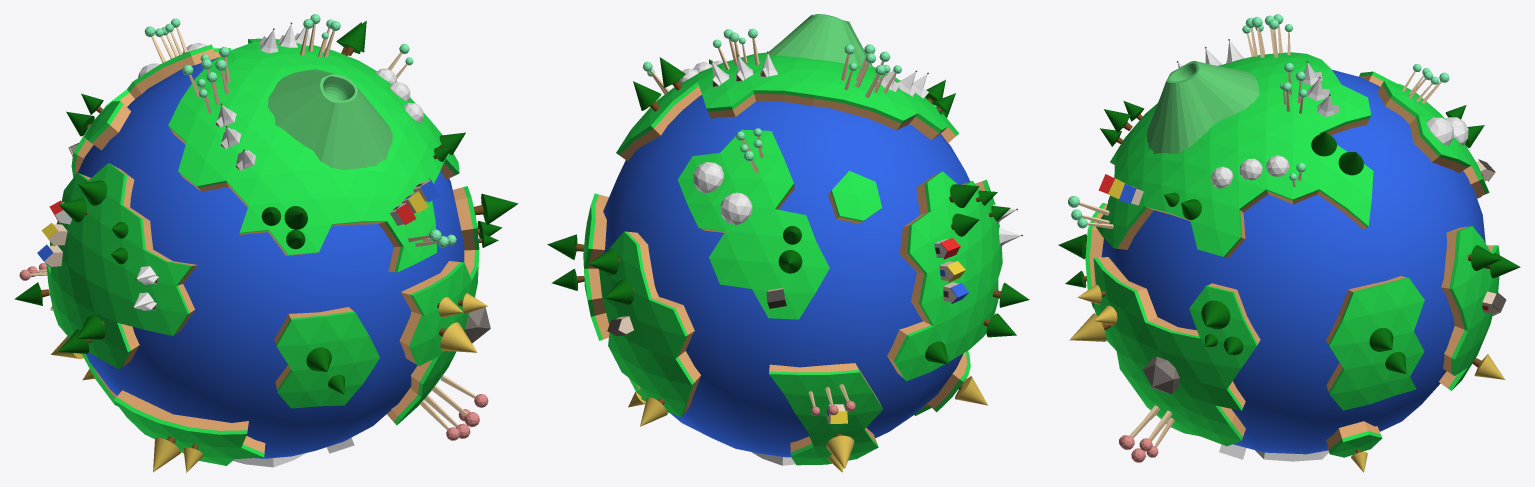
Rendered from earth_sphere.glb.
3 views of the same model, side by side, from view 1: azimuth 30°, elevation 25°; view 2: azimuth 150°, elevation 25°; view 3: azimuth 270°, elevation 25° (orthographic). The views are drawn at different scales.
Parts seen in each view (by area): view 1: Earth, Sea, Yama, Tree.016, Tree.030, Tree.019, Stone, Tree.014, Tree.003, Tree.010; view 2: Earth, Sea, Yama, camp1.001, camp1, Tree.021, Tree.019, Tree.033, Tree, Tree.001, Tree.002; view 3: Earth, Sea, Yama, Stone, Tree.030, Tree.016, camp1, Tree, Tree.002, Tree.023, Tree.003, Tree.033.
Boxes of the visible parts, <box> form: Earth: <box>46,38,479,467</box>; Sea: <box>78,57,464,458</box>; Yama: <box>267,69,392,169</box>; Tree.016: <box>439,322,477,352</box>; Tree.030: <box>474,193,518,224</box>; Tree.019: <box>153,436,180,472</box>; Stone: <box>464,307,490,343</box>; Tree.014: <box>77,315,105,339</box>; Tree.003: <box>341,20,366,55</box>; Tree.010: <box>78,180,107,205</box>; Earth: <box>583,52,1002,465</box>; Sea: <box>603,95,969,457</box>; Yama: <box>767,14,872,67</box>; camp1.001: <box>720,192,752,224</box>; camp1: <box>693,162,723,192</box>; Tree.021: <box>826,434,854,468</box>; Tree.019: <box>955,376,987,405</box>; Tree.033: <box>640,397,667,426</box>; Tree: <box>588,249,620,274</box>; Tree.001: <box>604,279,634,304</box>; Tree.002: <box>633,81,661,111</box>; Earth: <box>1085,52,1499,461</box>; Sea: <box>1101,69,1485,454</box>; Yama: <box>1146,61,1259,153</box>; Stone: <box>1143,356,1179,394</box>; Tree.030: <box>1201,300,1230,329</box>; Tree.016: <box>1069,313,1111,341</box>; camp1: <box>1427,117,1453,145</box>; Tree: <box>1468,245,1501,270</box>; Tree.002: <box>1338,152,1363,175</box>; Tree.023: <box>1369,328,1393,351</box>; Tree.003: <box>1311,131,1336,156</box>; Tree.033: <box>1472,354,1505,379</box>.
Bounding box in the file's own units: 27.94 × 26.4 × 27.3.
